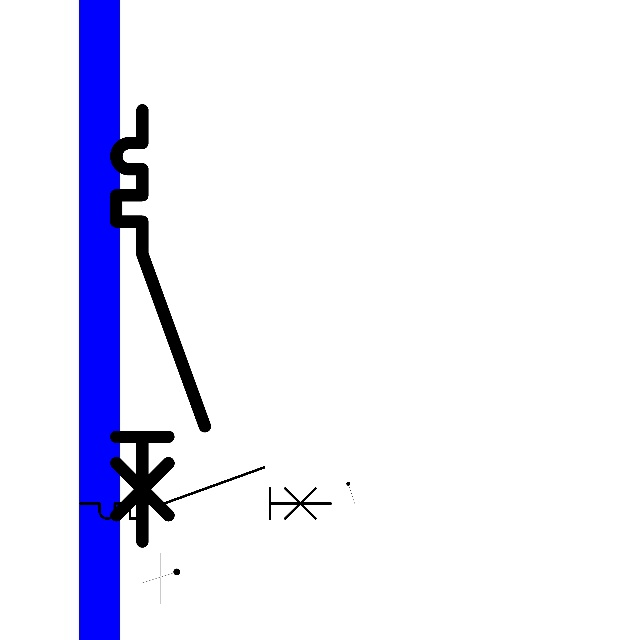interruptor_termomagnetico: (105, 99, 216, 552), (74, 461, 337, 525)
